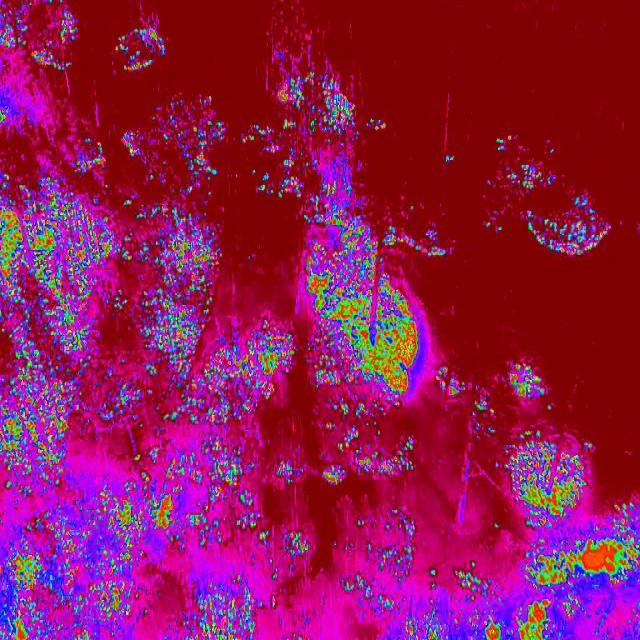fire: (0, 84, 229, 640), (341, 516, 640, 640), (304, 199, 418, 489), (229, 315, 302, 640), (241, 74, 357, 200), (489, 139, 612, 257), (494, 430, 594, 516), (0, 0, 79, 71), (428, 364, 494, 440), (111, 20, 170, 72), (498, 358, 549, 403), (419, 224, 456, 262), (366, 110, 388, 135)
